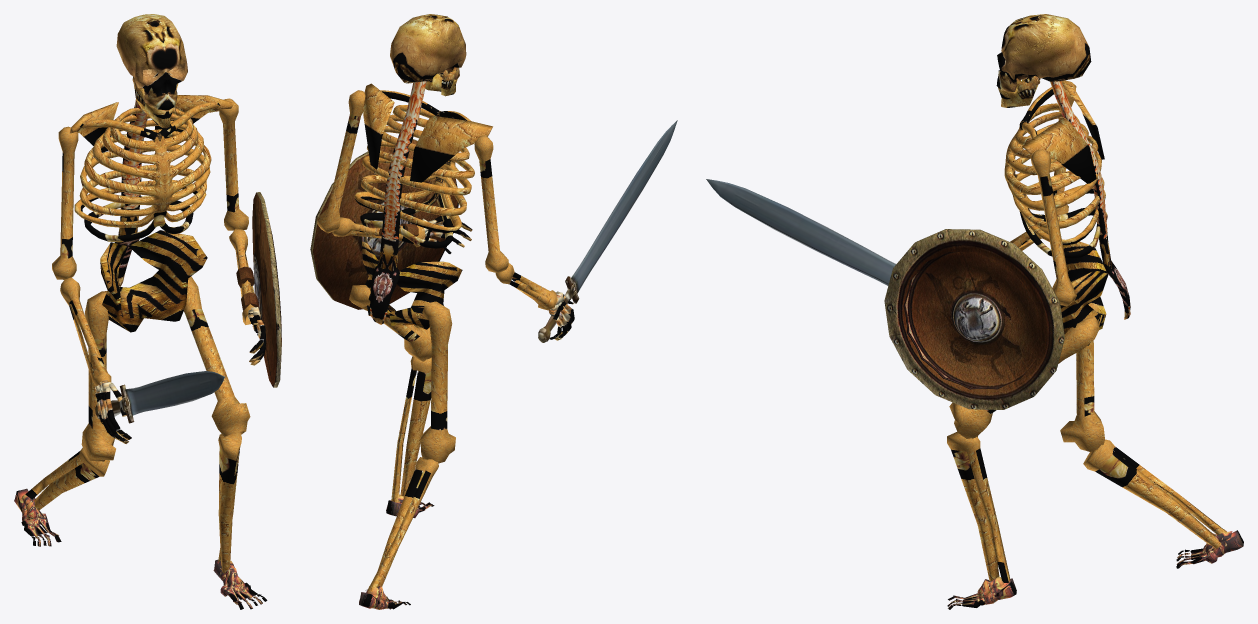
File: Skeleton_000002.obj
3 views of the same model, side by side, from view 1: azimuth 30°, elevation 25°; view 2: azimuth 150°, elevation 25°; view 3: azimuth 270°, elevation 25° (orthographic). The views are drawn at different scales.
Parts seen in each view (by area): view 1: Costillar, Coxis, Femur, Skull, Tibia, Shield_Shield.001, Humero, Sword, Radio, Feet, Hands, Omoplato (+1 smaller); view 2: Costillar, Shield_Shield.001, Tibia, Femur, Omoplato, Skull, Humero, Coxis, Sword, Radio, Hands, Feet (+1 smaller); view 3: Shield_Shield.001, Costillar, Tibia, Skull, Sword, Femur, Omoplato, Coxis, Humero, Feet, Mandibula.
Boxes of the visible parts, bbox=[...] form: Costillar: bbox=[74, 100, 219, 286]; Coxis: bbox=[100, 230, 207, 332]; Femur: bbox=[81, 276, 250, 461]; Skull: bbox=[116, 14, 187, 110]; Tibia: bbox=[25, 431, 241, 573]; Shield_Shield.001: bbox=[236, 192, 281, 387]; Humero: bbox=[52, 98, 248, 279]; Sword: bbox=[95, 371, 224, 423]; Radio: bbox=[60, 228, 259, 386]; Feet: bbox=[14, 488, 267, 609]; Hands: bbox=[95, 307, 266, 443]; Omoplato: bbox=[70, 95, 233, 152]; Costillar: bbox=[354, 81, 474, 324]; Shield_Shield.001: bbox=[310, 139, 458, 309]; Tibia: bbox=[367, 356, 438, 591]; Femur: bbox=[349, 285, 455, 463]; Omoplato: bbox=[363, 83, 492, 182]; Skull: bbox=[390, 14, 466, 83]; Humero: bbox=[317, 90, 508, 273]; Coxis: bbox=[362, 241, 462, 329]; Sword: bbox=[538, 120, 677, 342]; Radio: bbox=[332, 217, 557, 310]; Hands: bbox=[422, 215, 574, 340]; Feet: bbox=[359, 494, 434, 609]; Shield_Shield.001: bbox=[884, 229, 1064, 409]; Costillar: bbox=[1004, 81, 1130, 319]; Tibia: bbox=[947, 432, 1226, 582]; Skull: bbox=[996, 14, 1091, 91]; Sword: bbox=[706, 179, 896, 285]; Femur: bbox=[949, 316, 1104, 451]; Omoplato: bbox=[1022, 80, 1104, 183]; Coxis: bbox=[1060, 241, 1108, 345]; Humero: bbox=[1030, 81, 1076, 306]; Feet: bbox=[947, 529, 1243, 609]; Mandibula: bbox=[998, 75, 1040, 107].
Bounding box in the file's own units: 3.25 × 8.25 × 7.12.
5 materials, 5 textured.
